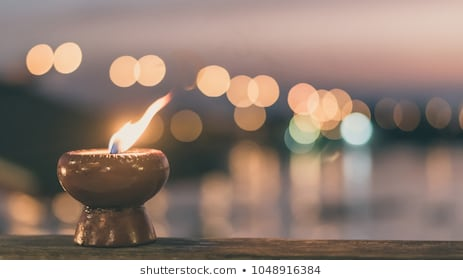Fire: (102, 88, 180, 155)
